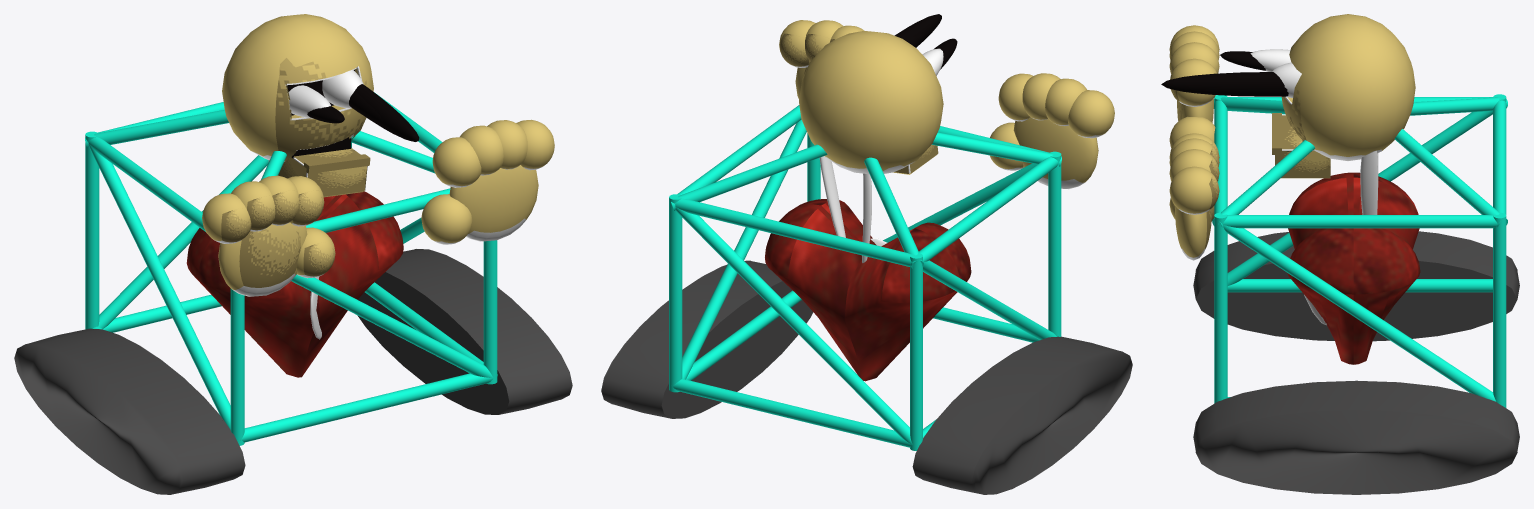
File: 1786438726443_roblox-1st-prize-model.glb
3 views of the same model, side by side, from view 1: azimuth 30°, elevation 25°; view 2: azimuth 150°, elevation 25°; view 3: azimuth 270°, elevation 25° (orthographic). The views are drawn at different scales.
Parts seen in each view (by area): view 1: Object_17, Object_12, Object_8, Object_3, Object_9, Object_14, Object_10, Object_15, Object_11, Object_16, Object_13, Object_2; view 2: Object_12, Object_17, Object_3, Object_14, Object_9, Object_10, Object_8, Object_15, Object_5, Object_13, Object_6, Object_11; view 3: Object_17, Object_12, Object_3, Object_11, Object_9, Object_8, Object_14, Object_15, Object_10, Object_16, Object_5, Object_13 (+1 smaller).
Part boxes in pixels (box(x1,y1,x2,y2)): Object_17: box(14, 249, 572, 494); Object_12: box(85, 92, 497, 445); Object_8: box(221, 43, 369, 287); Object_3: box(186, 191, 403, 377); Object_9: box(207, 14, 549, 247); Object_14: box(440, 134, 553, 242); Object_10: box(202, 39, 554, 289); Object_15: box(287, 69, 419, 158); Object_11: box(285, 36, 523, 274); Object_16: box(288, 70, 363, 118); Object_13: box(213, 67, 541, 296); Object_2: box(303, 154, 370, 173); Object_12: box(669, 105, 1061, 450); Object_17: box(601, 260, 1132, 494); Object_3: box(765, 199, 971, 381); Object_14: box(802, 59, 1096, 180); Object_9: box(784, 20, 1109, 141); Object_10: box(779, 28, 1114, 182); Object_8: box(780, 33, 938, 174); Object_15: box(894, 14, 957, 69); Object_5: box(819, 156, 845, 237); Object_13: box(791, 65, 1103, 189); Object_6: box(862, 173, 871, 263); Object_11: box(799, 51, 1026, 167); Object_17: box(1193, 231, 1519, 494); Object_12: box(1212, 94, 1507, 407); Object_3: box(1287, 172, 1420, 364); Object_11: box(1177, 58, 1395, 156); Object_9: box(1177, 14, 1395, 183); Object_8: box(1169, 32, 1330, 248); Object_14: box(1169, 32, 1415, 248); Object_15: box(1161, 51, 1302, 141); Object_10: box(1177, 164, 1212, 257); Object_16: box(1250, 49, 1301, 98); Object_5: box(1360, 150, 1377, 214); Object_13: box(1179, 71, 1381, 260).
Size of the model in its own units: 6.46 by 6.31 by 5.36.
Materials: 16 (7 with a texture image).
